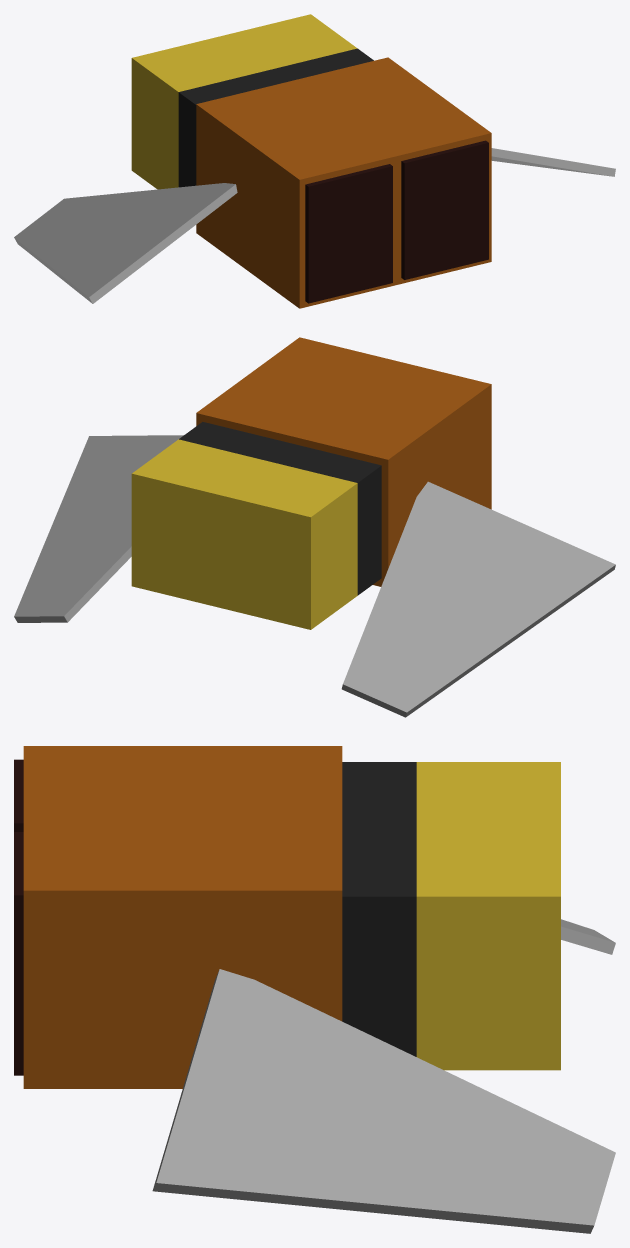
File: FireFlyQueen.fbx
The picture shows the model from 3 angles, top to bottom: view 1: azimuth 30°, elevation 25°; view 2: azimuth 150°, elevation 25°; view 3: azimuth 270°, elevation 25°; orthographic projection. The views are drawn at different scales.
Visible parts, largest first — view 1: Fly.001; view 2: Fly.001; view 3: Fly.001.
Part boxes in pixels (left/top/right/bottom): Fly.001: left=14, top=14, right=615, bottom=308; Fly.001: left=14, top=337, right=615, bottom=717; Fly.001: left=14, top=746, right=615, bottom=1233.
Bounding box in the file's own units: 2.12 × 0.6739 × 1.36.
